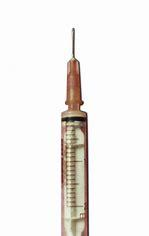Syringe: (52, 12, 95, 231)
